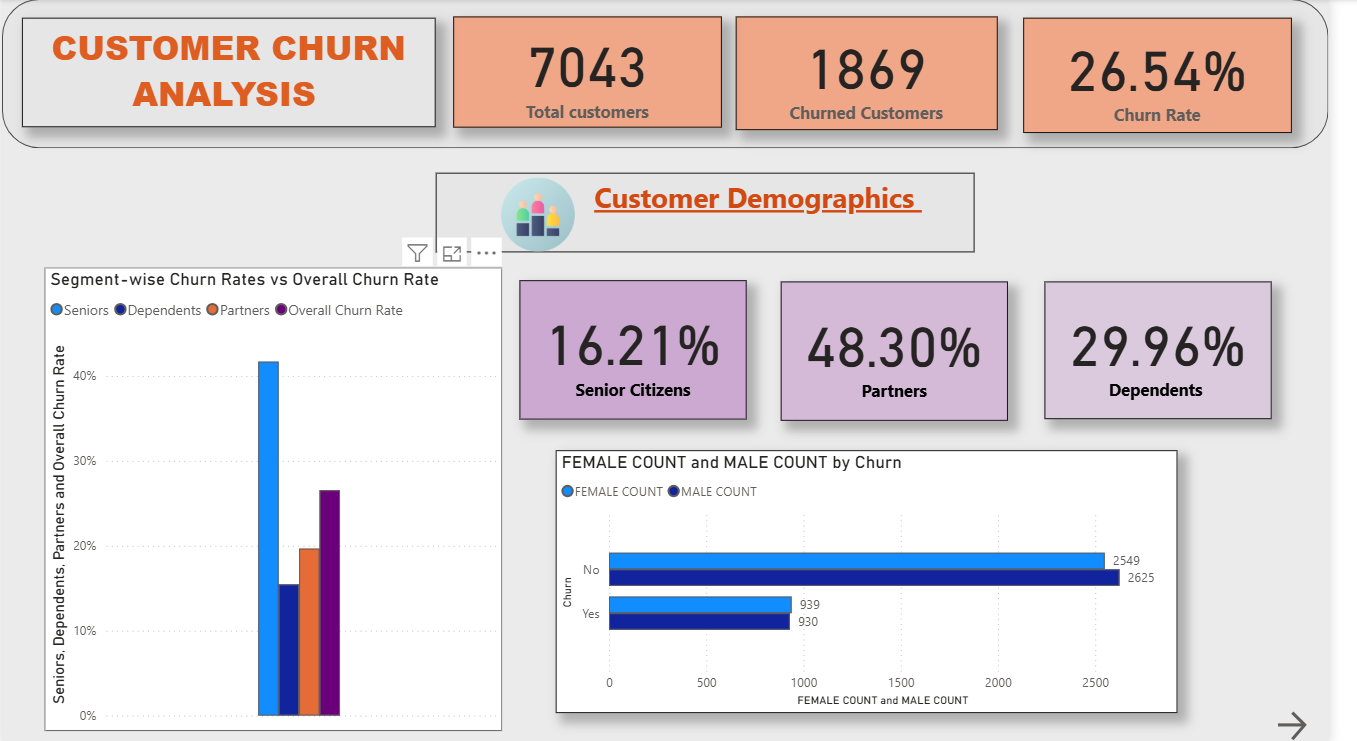

The dashboard page shown, as its layout file describes it:
{"tool":"powerbi","page":{"name":"Page 1","canvas":[1280,720],"ordinal":0},"visuals":[{"type":"card","fields":{"Values":["Query1.churn rate"]},"box":[1135.3,6,136.3,89.3],"z":0},{"type":"card","fields":{"Values":["Query1.CHURNED"]},"box":[308.8,0,179.8,105],"z":1000},{"type":"card","fields":{"Values":["Query1.Total cust"]},"box":[154.4,0,154.4,106.2],"z":2000},{"type":"textbox","box":[488.6,18.1,463.3,53.1],"z":3000},{"type":"barChart","title":"Churn Distribution Across Genders","fields":{"Category":["CustomerChurn.Churn"],"Y":["Query1.FEMALE COUNT","Query1.MALE COUNT"]},"box":[778.2,395.7,450,304],"z":4000},{"type":"pieChart","title":"Demographic Impact on Churn: Who''s at Higher Risk","fields":{"Y":["Query1.propn seniors","Query1.propn partners","Query1.propn dependents","Query1.churn rate"]},"box":[194.2,395.7,488.6,306.4],"z":5000},{"type":"image","box":[0,78.4,154.4,86.9],"z":6000},{"type":"actionButton","box":[94.1,664.7,45.8,37.4],"z":7000},{"type":"card","fields":{"Values":["Query1.Retention Rate"]},"box":[961.5,10.9,170.1,84.5],"z":8000},{"type":"slicer","fields":{"Values":["CustomerChurn.Churn"]},"box":[0,382.4,154.4,91.7],"z":9000},{"type":"textbox","box":[0,165.3,154.4,38.6],"z":10000},{"type":"image","box":[194.2,120.6,135.1,63.9],"z":11000},{"type":"multiRowCard","fields":{"Values":["Query1.seniors","Query1.seniors %","Query1.senior churn"]},"box":[359.5,115.8,877.1,77.2],"z":12000},{"type":"image","box":[194.2,294.4,135.1,76],"z":13000},{"type":"multiRowCard","fields":{"Values":["Query1.dep","Query1.dep%","Query1.dep churn"]},"box":[359.5,294.4,877.1,76],"z":14000},{"type":"image","box":[194.2,203.9,135.1,78.4],"z":15000},{"type":"multiRowCard","fields":{"Values":["Query1.pat","Query1.partners","Query1.partners churn"]},"box":[359.5,203.9,877.1,82],"z":16000},{"type":"slicer","fields":{"Values":["CustomerChurn.gender"]},"box":[0,271.4,154.4,88.1],"z":17000}]}

Visuals, with their boxes on the page's 1280x720 design canvas (x1, y1, x2, y2). These are canvas units, not pixel positions in the 1357x741 screenshot, which may show the page scaled, cropped or inside an application window:
card - Query1.churn rate: (x1=1135, y1=6, x2=1272, y2=95)
card - Query1.CHURNED: (x1=309, y1=0, x2=489, y2=105)
card - Query1.Total cust: (x1=154, y1=0, x2=309, y2=106)
textbox: (x1=489, y1=18, x2=952, y2=71)
"Churn Distribution Across Genders" barChart: (x1=778, y1=396, x2=1228, y2=700)
"Demographic Impact on Churn: Who''s at Higher Risk" pieChart: (x1=194, y1=396, x2=683, y2=702)
image: (x1=0, y1=78, x2=154, y2=165)
actionButton: (x1=94, y1=665, x2=140, y2=702)
card - Query1.Retention Rate: (x1=962, y1=11, x2=1132, y2=95)
slicer - CustomerChurn.Churn: (x1=0, y1=382, x2=154, y2=474)
textbox: (x1=0, y1=165, x2=154, y2=204)
image: (x1=194, y1=121, x2=329, y2=184)
multiRowCard - Query1.seniors x Query1.seniors %: (x1=360, y1=116, x2=1237, y2=193)
image: (x1=194, y1=294, x2=329, y2=370)
multiRowCard - Query1.dep x Query1.dep%: (x1=360, y1=294, x2=1237, y2=370)
image: (x1=194, y1=204, x2=329, y2=282)
multiRowCard - Query1.pat x Query1.partners: (x1=360, y1=204, x2=1237, y2=286)
slicer - CustomerChurn.gender: (x1=0, y1=271, x2=154, y2=360)
